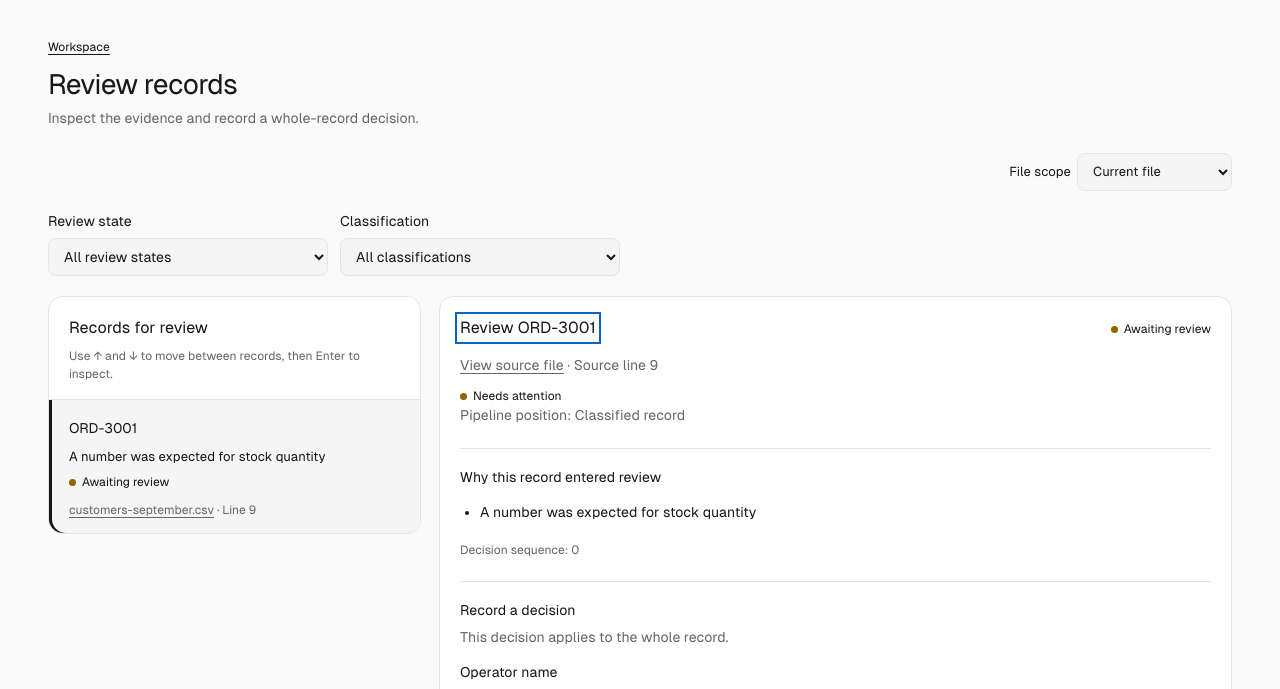
Scenario: scope changes and removing the last file pause excluded decisions
Select "Selected files" in the dropdown labelled "File scope" at (1154, 172), box [1077,153,1232,191]
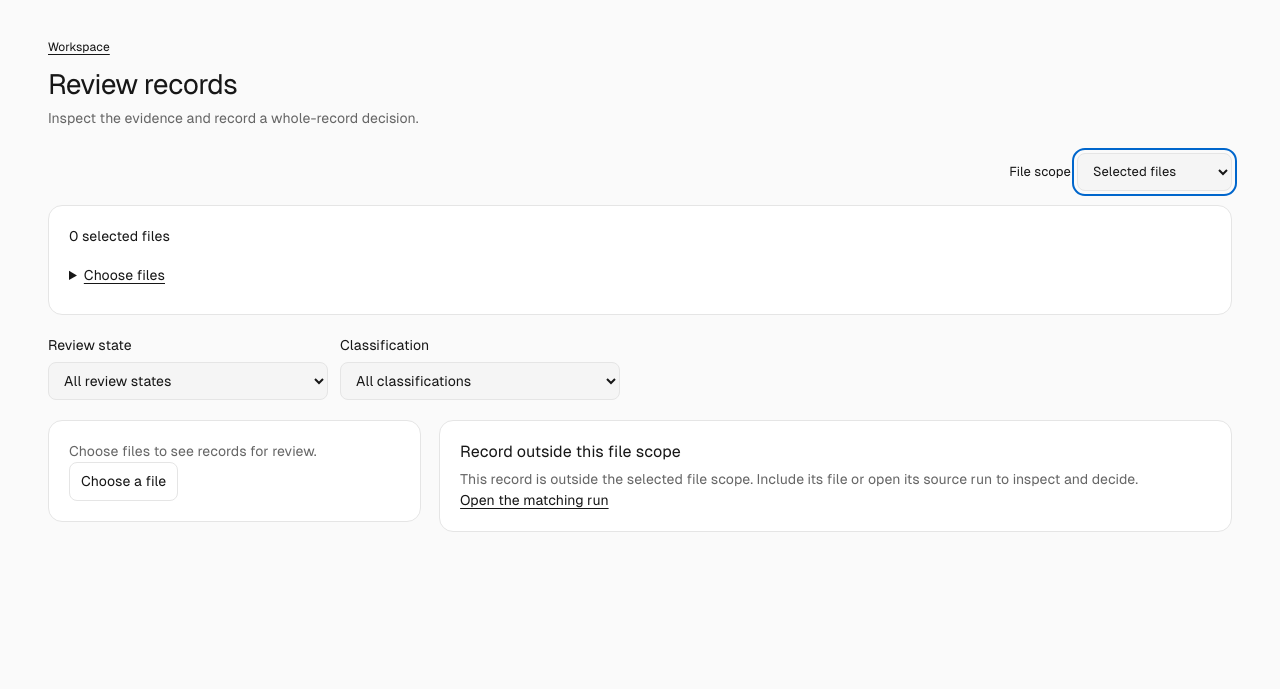
Result: the message shows "outside the selected file scope" at [460,471,1138,487]
Click the heading "Choose files" at (124, 275), box [84,267,165,283]
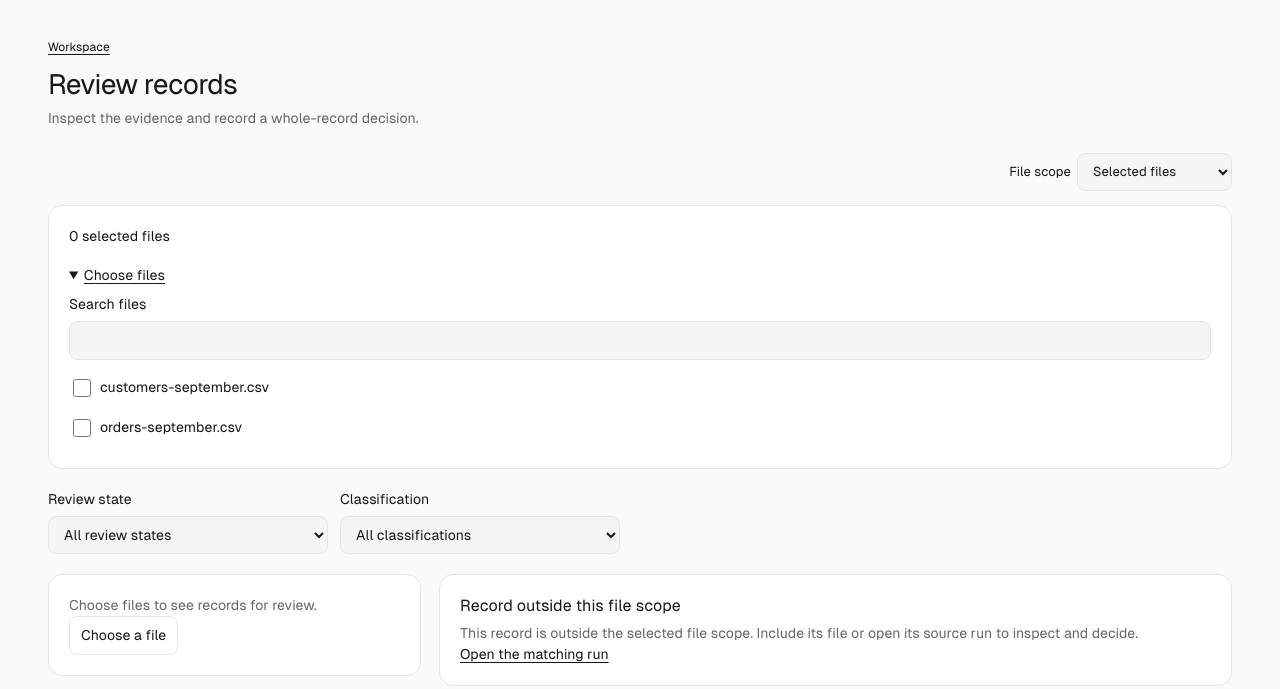
Click the checkbox labelled "orders-september.csv" at (82, 428), box [73,419,91,437]
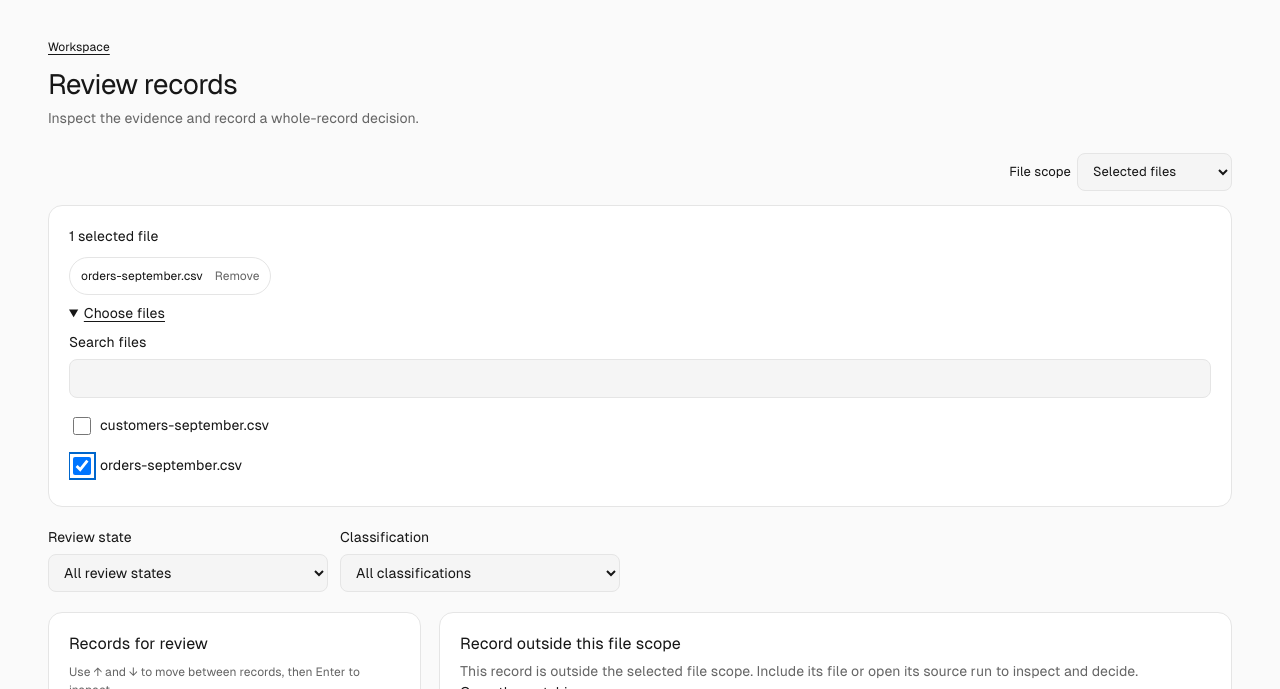
Result: the message shows "outside the selected file scope" at [460,663,1138,679]
Click the checkbox labelled "customers-september.csv" at (82, 426), box [73,417,91,435]
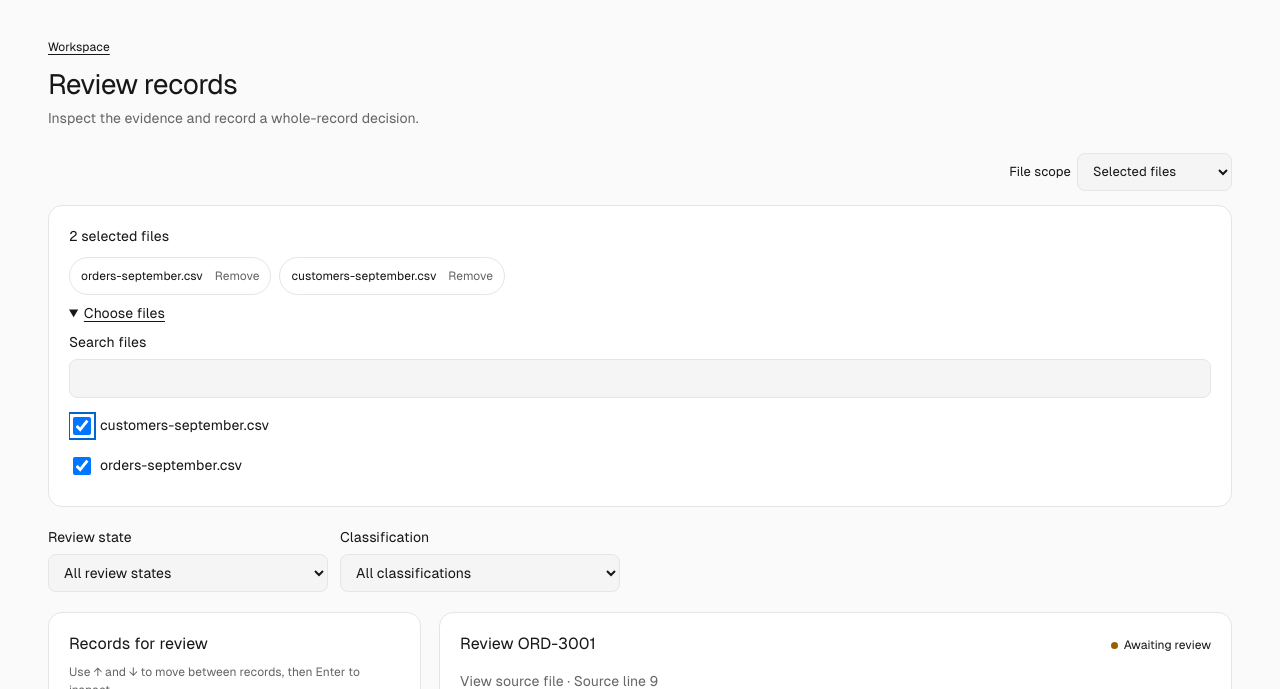
Click the button "orders-september.csv Remove" at (170, 276), box [69,257,272,295]
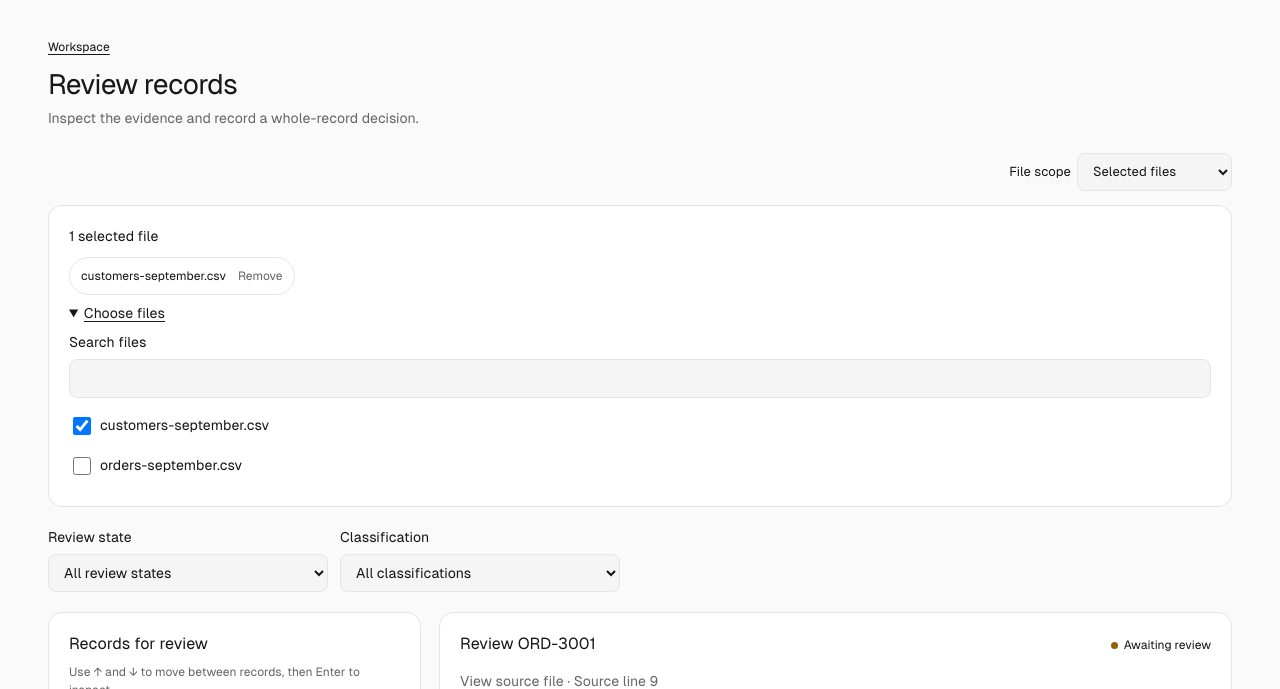
Click the button "Remove customers-september.csv" at (182, 276), box [69,257,294,295]
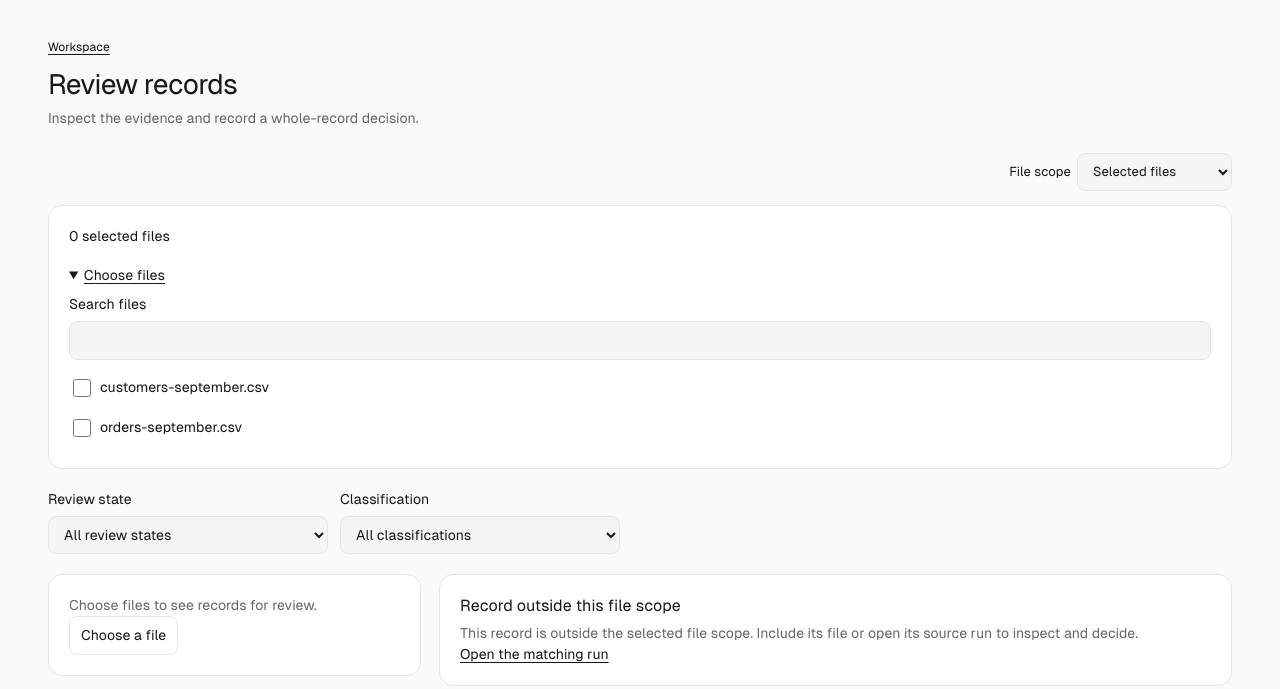
Result: the text "Choose files to see records for review." is shown at [69,597,317,613]
Result: the message shows "outside the selected file scope" at [460,625,1138,641]
